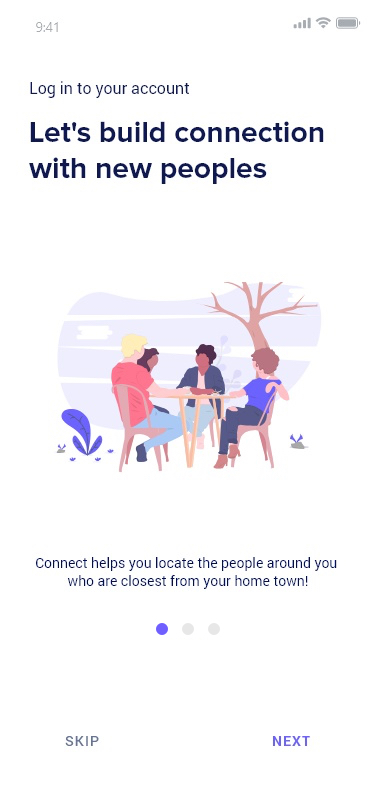Image: (57, 282, 321, 473)
PageIndicator: (156, 622, 221, 636)
Text: (29, 121, 324, 185), (36, 557, 337, 590), (30, 81, 190, 100), (273, 735, 311, 747), (66, 735, 100, 747)
UpperTaskBar: (36, 17, 361, 34)
